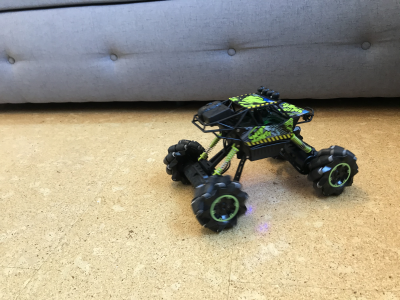remote control car: (159, 83, 362, 234)
